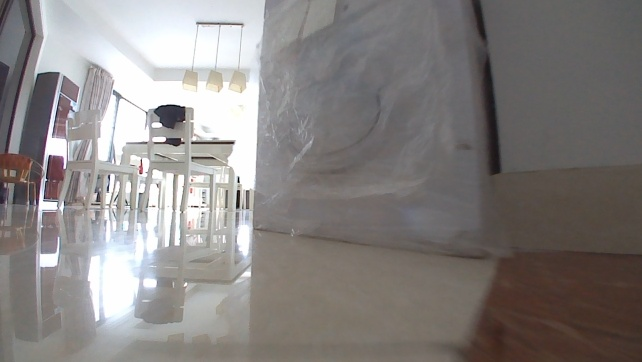dining_table: (54, 104, 244, 214)
